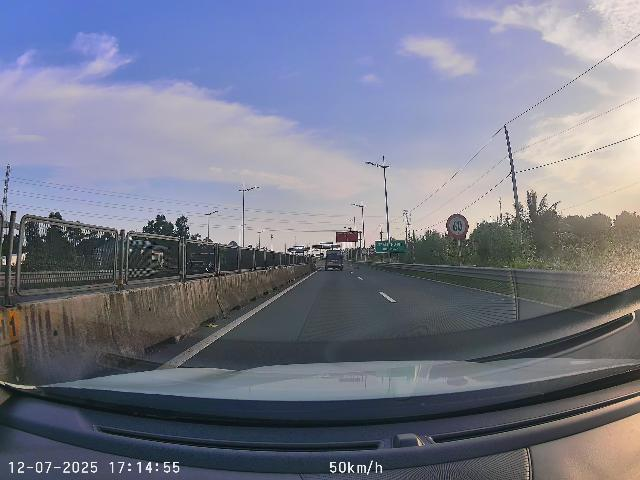127-toc-do-toi-da-60: (446, 213, 469, 239)
